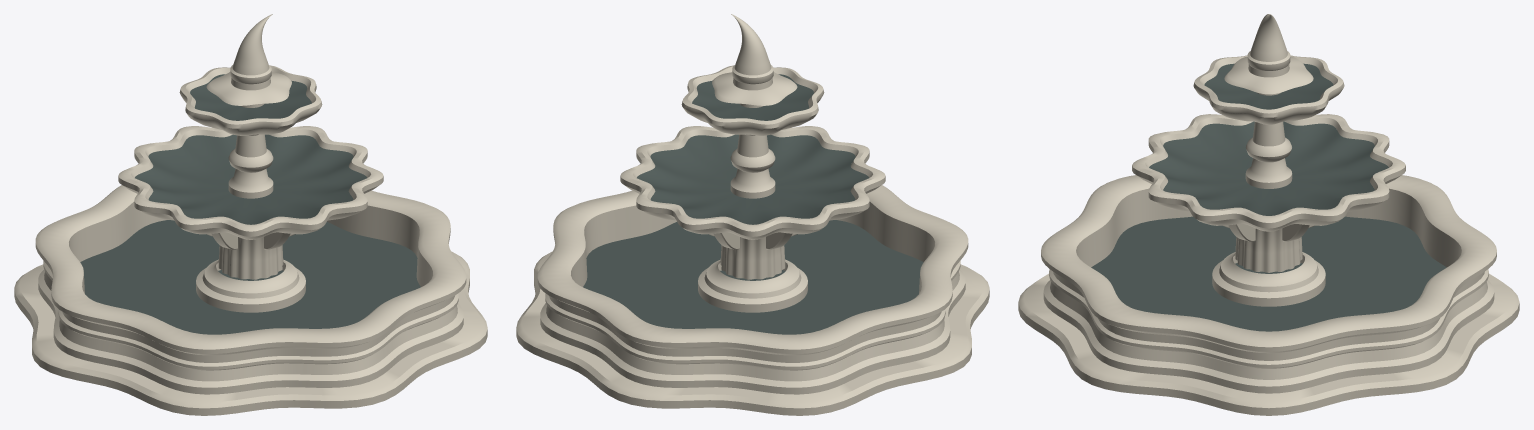
File: fountain.glb
3 renders of one model, left to right at view 1: azimuth 30°, elevation 25°; view 2: azimuth 150°, elevation 25°; view 3: azimuth 270°, elevation 25°, orthographic. The views are drawn at different scales.
Parts seen in each view (by area): view 1: basin, basin_floor, step, mid_floor, mid_bowl, ped_base, up_bowl, column, up_floor, ped_shaft, crown, brim; view 2: basin, basin_floor, step, mid_floor, mid_bowl, ped_base, up_bowl, column, up_floor, ped_shaft, crown, brim; view 3: basin, basin_floor, step, mid_floor, mid_bowl, ped_base, up_bowl, column, up_floor, ped_shaft, crown, brim.
Boxes of the visible parts, x1=… form: basin: x1=35, y1=185, x2=466, y2=394; basin_floor: x1=80, y1=220, x2=420, y2=334; step: x1=14, y1=251, x2=487, y2=415; mid_floor: x1=135, y1=134, x2=366, y2=224; mid_bowl: x1=118, y1=126, x2=383, y2=239; ped_base: x1=196, y1=259, x2=305, y2=312; up_bowl: x1=179, y1=65, x2=322, y2=135; column: x1=228, y1=134, x2=273, y2=198; up_floor: x1=190, y1=74, x2=311, y2=120; ped_shaft: x1=218, y1=237, x2=283, y2=279; crown: x1=230, y1=14, x2=272, y2=90; brim: x1=206, y1=72, x2=291, y2=105; basin: x1=537, y1=185, x2=968, y2=394; basin_floor: x1=583, y1=220, x2=923, y2=334; step: x1=516, y1=251, x2=989, y2=415; mid_floor: x1=637, y1=134, x2=868, y2=224; mid_bowl: x1=620, y1=126, x2=885, y2=239; ped_base: x1=698, y1=259, x2=807, y2=312; up_bowl: x1=681, y1=65, x2=824, y2=135; column: x1=730, y1=134, x2=775, y2=198; up_floor: x1=692, y1=74, x2=813, y2=120; ped_shaft: x1=720, y1=237, x2=785, y2=279; crown: x1=731, y1=14, x2=773, y2=90; brim: x1=712, y1=72, x2=797, y2=105; basin: x1=1041, y1=175, x2=1496, y2=393; basin_floor: x1=1091, y1=216, x2=1446, y2=331; step: x1=1018, y1=273, x2=1519, y2=415; mid_floor: x1=1149, y1=121, x2=1388, y2=215; mid_bowl: x1=1132, y1=114, x2=1405, y2=231; ped_base: x1=1212, y1=252, x2=1325, y2=306; up_bowl: x1=1193, y1=55, x2=1344, y2=124; column: x1=1245, y1=122, x2=1292, y2=188; up_floor: x1=1204, y1=63, x2=1333, y2=109; ped_shaft: x1=1235, y1=228, x2=1302, y2=272; crown: x1=1247, y1=14, x2=1290, y2=77; brim: x1=1224, y1=56, x2=1313, y2=94.
Size of the model in its own units: 5.84 by 3.93 by 5.84.
